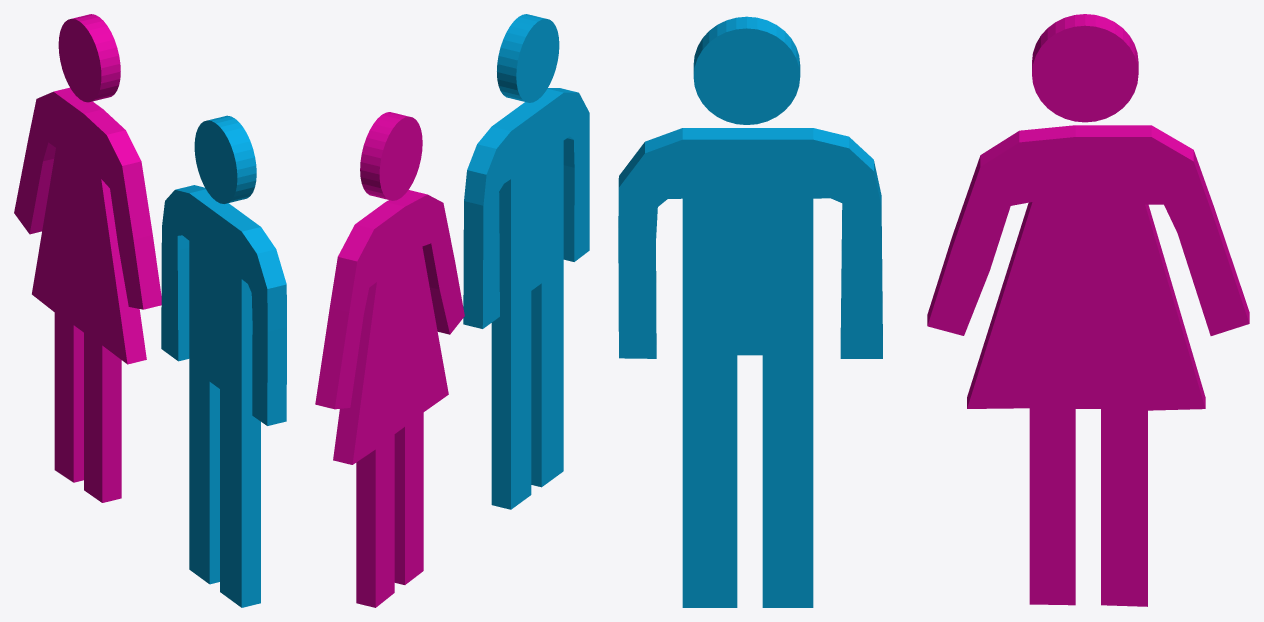
File: washroom1.gltf
3 renders of one model, left to right at view 1: azimuth 30°, elevation 25°; view 2: azimuth 150°, elevation 25°; view 3: azimuth 270°, elevation 25°, orthographic. The views are drawn at different scales.
Visible parts, largest first — view 1: Circle.001; view 2: Circle.001; view 3: Circle.001.
Boxes of the visible parts, x1,y1,x2,y2 form: Circle.001: (14, 14, 286, 607); Circle.001: (315, 14, 589, 607); Circle.001: (618, 14, 1249, 607).
Size of the model in its own units: 0.102 by 2.36 by 2.32.
